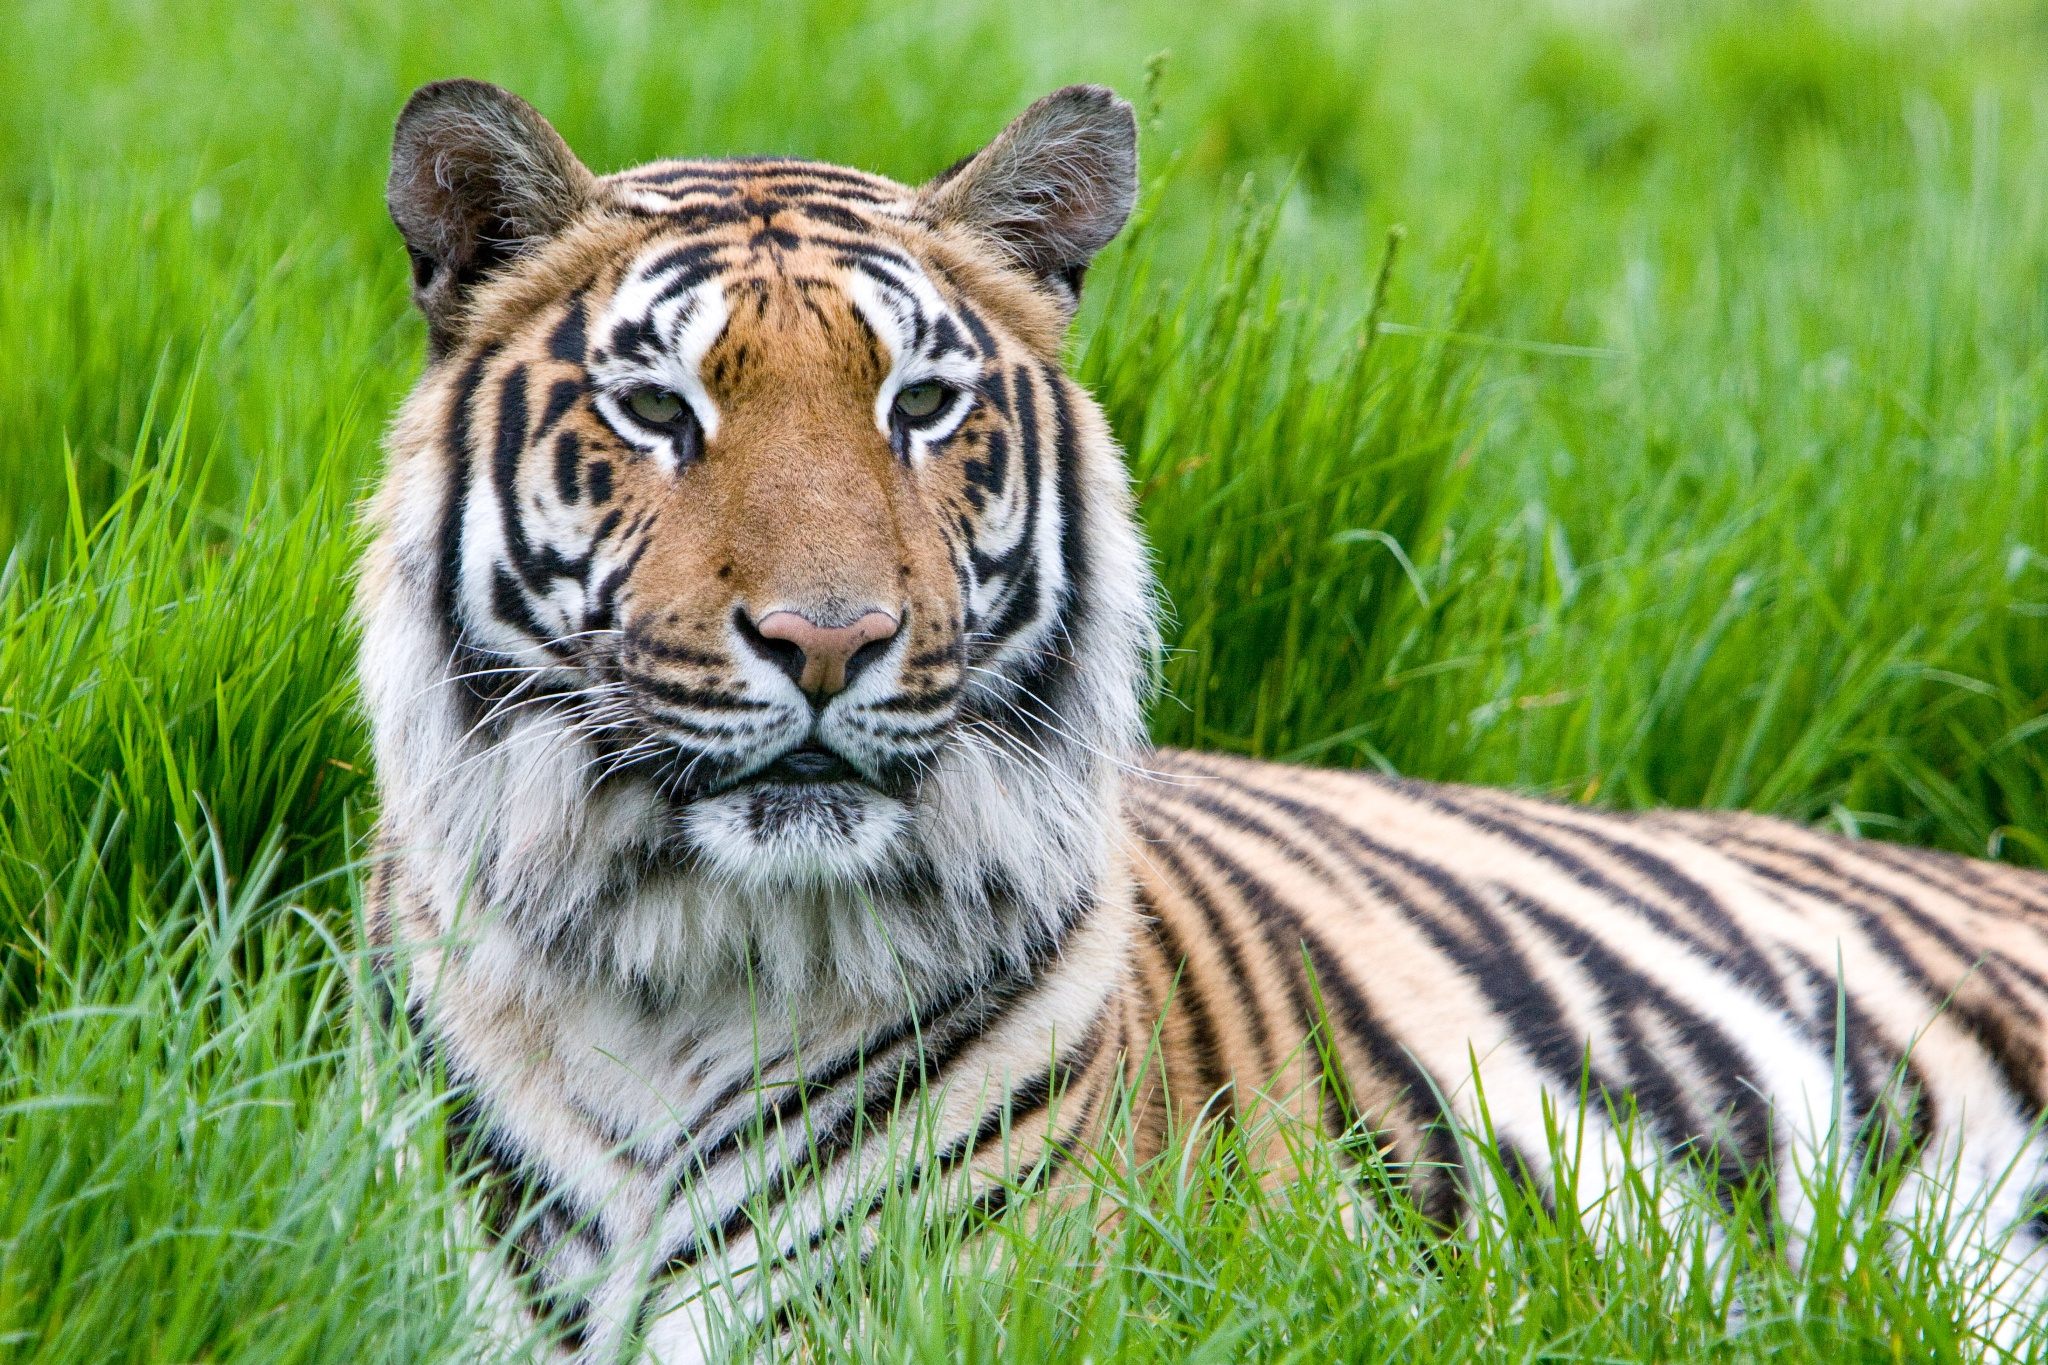tiger: (344, 53, 1967, 1234)
